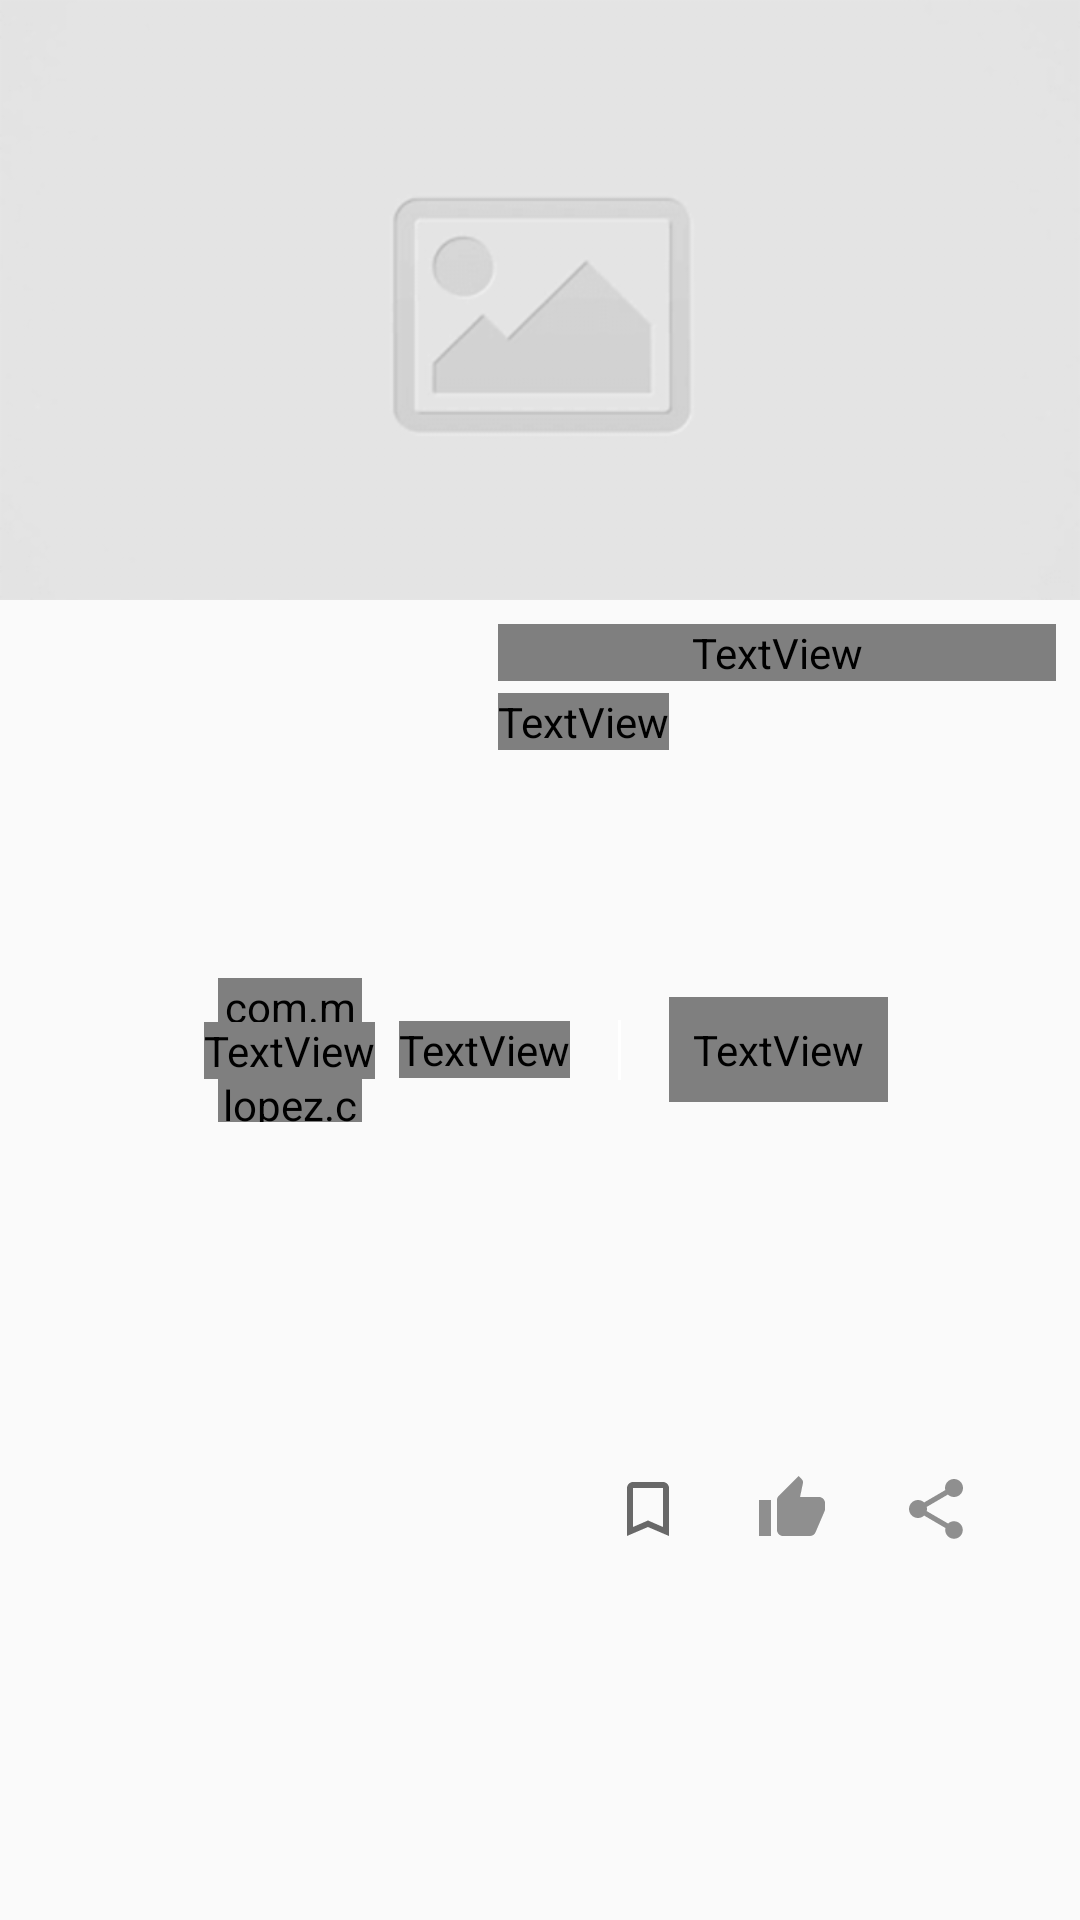

Icons on this 1080px×1920px Android screen, each with its box as {"x1": x1, "y1": y1, "x2": x2, "y2": y2}:
save: {"x1": 627, "y1": 1482, "x2": 669, "y2": 1536}
share: {"x1": 909, "y1": 1479, "x2": 963, "y2": 1539}
thumb up: {"x1": 759, "y1": 1476, "x2": 825, "y2": 1536}
